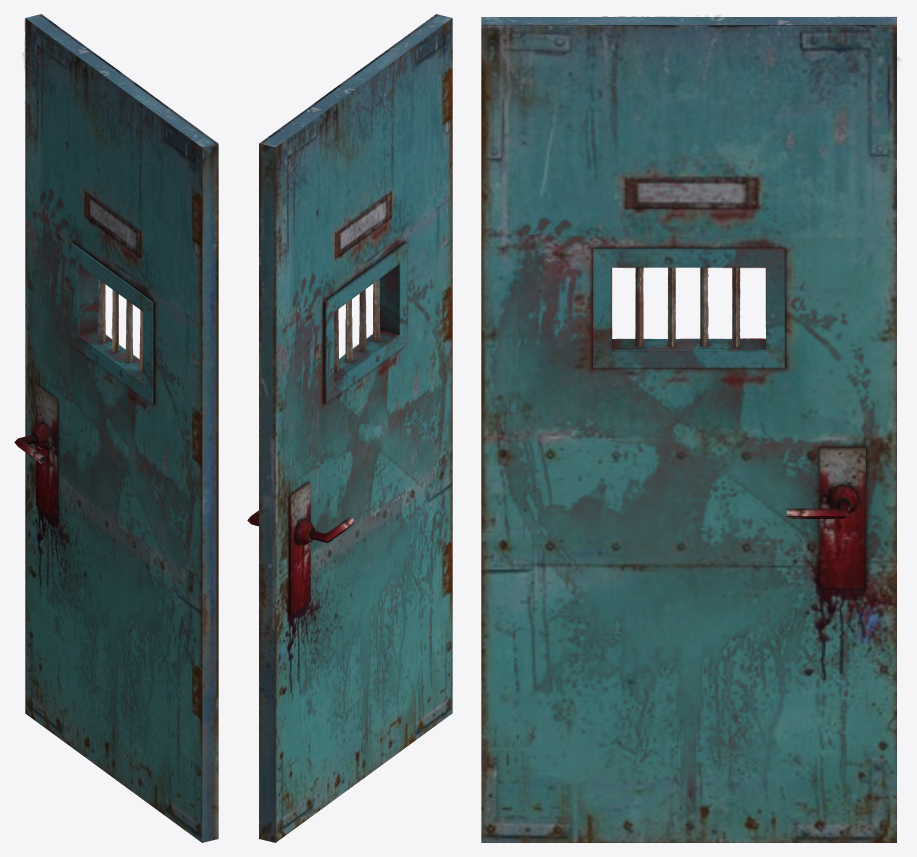
The model's file is cell_door.glb.
The picture shows the model from 3 angles, left to right: view 1: azimuth 30°, elevation 25°; view 2: azimuth 150°, elevation 25°; view 3: azimuth 270°, elevation 25°; orthographic projection. The views are drawn at different scales.
Visible parts, largest first — view 1: door4_SM; view 2: door4_SM; view 3: door4_SM.
Boxes of the visible parts, x1=… form: door4_SM: x1=14, y1=14, x2=218, y2=842; door4_SM: x1=247, y1=14, x2=452, y2=842; door4_SM: x1=481, y1=16, x2=898, y2=842.
Bounding box in the file's own units: 0.3021 × 2.44 × 1.14.
2 materials, 2 textured.
